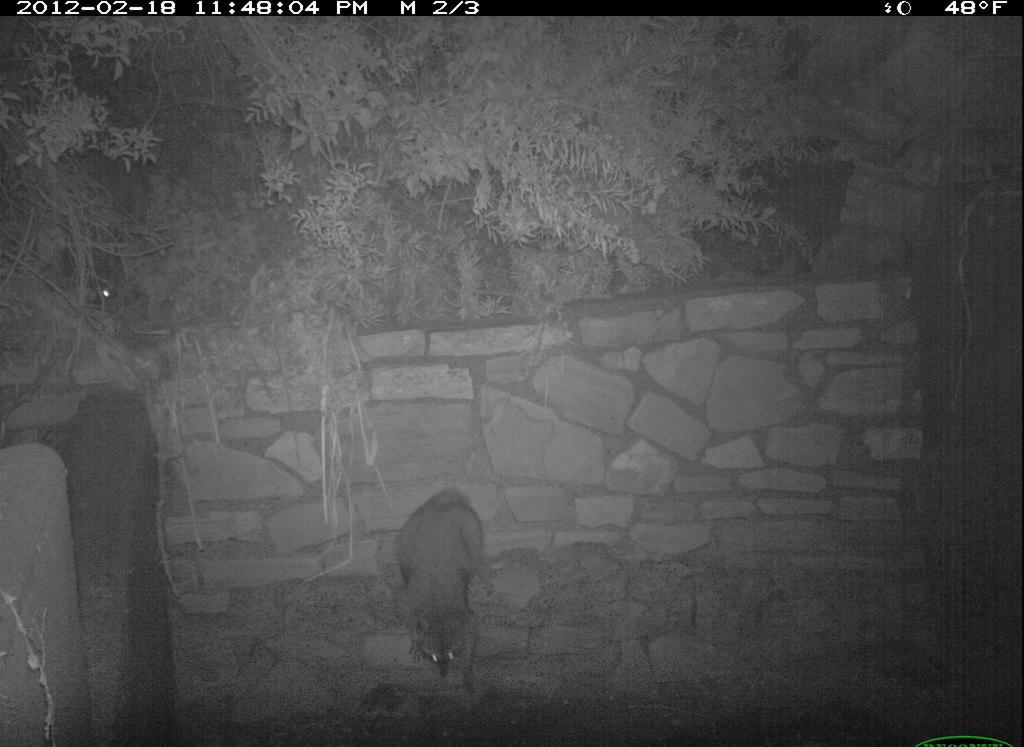raccoon: (381, 474, 506, 699)
